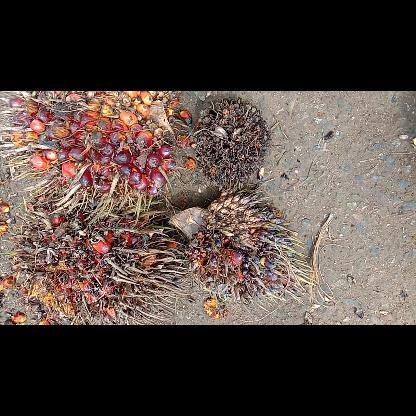TBS abnormal: (168, 188, 318, 308), (190, 96, 274, 190)
TBS masak: (1, 93, 182, 207)
Terlalu masak: (8, 190, 190, 324)
